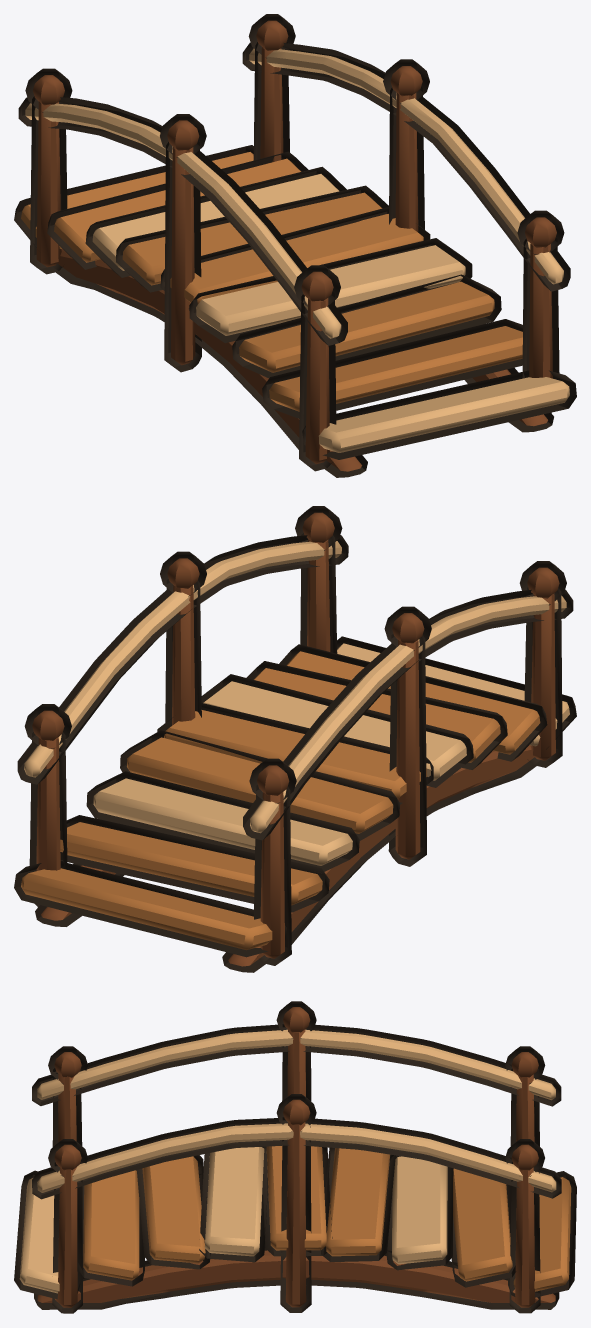
File: bridge.glb
3 views of the same model, one above another, from view 1: azimuth 30°, elevation 25°; view 2: azimuth 150°, elevation 25°; view 3: azimuth 270°, elevation 25° (orthographic). The views are drawn at different scales.
Parts seen in each view (by area): view 1: bridge; view 2: bridge; view 3: bridge.
Boxes of the visible parts, x1,y1,x2,y2 form: bridge: (14, 14, 576, 477); bridge: (14, 506, 576, 972); bridge: (14, 1001, 576, 1313).
Size of the model in its own units: 1.67 by 1.56 by 3.69.
